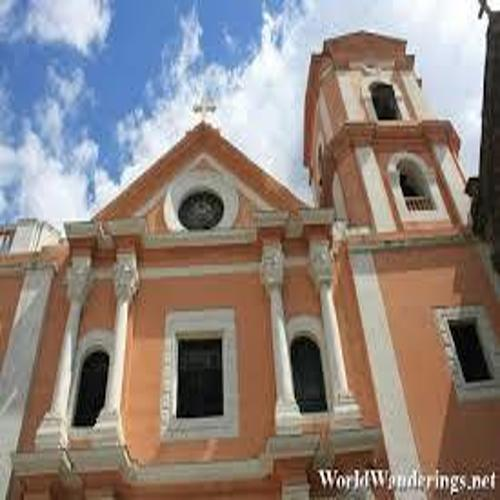San Agustin Church: (71, 19, 500, 500)
